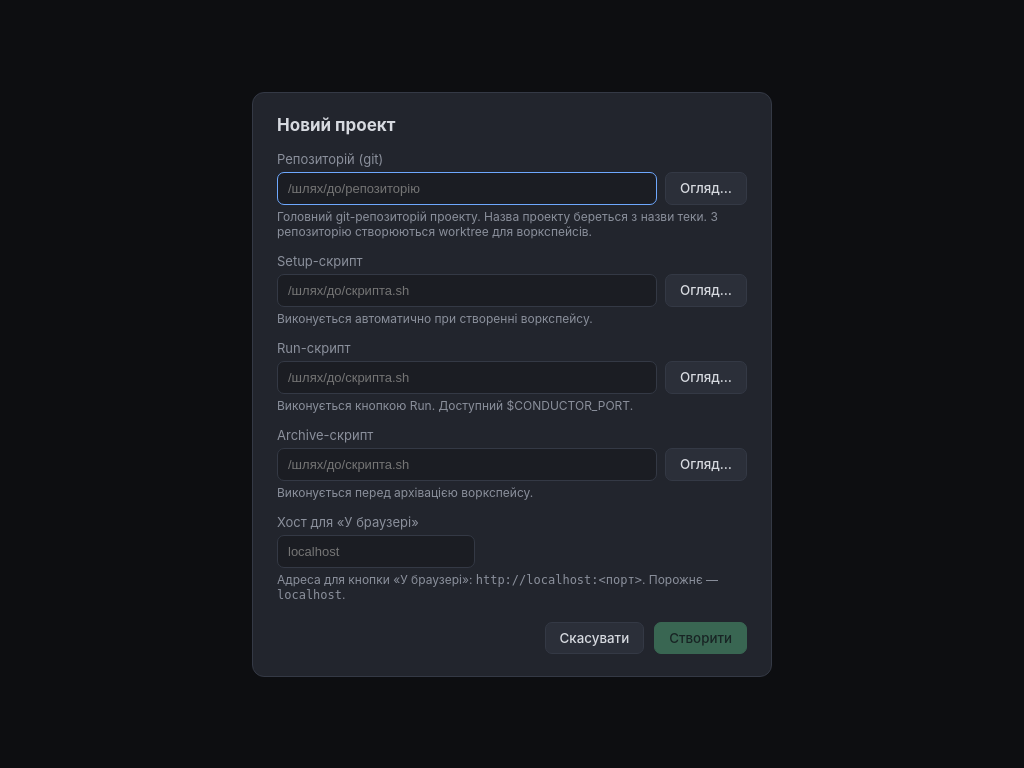
Test case: NewProjectModal › confirms a git repo and enables submit
Type "/home/me/cool-app" into the field with placeholder "/шлях/до/репозиторію" at (467, 188), box x1=277 y1=172 x2=657 y2=204
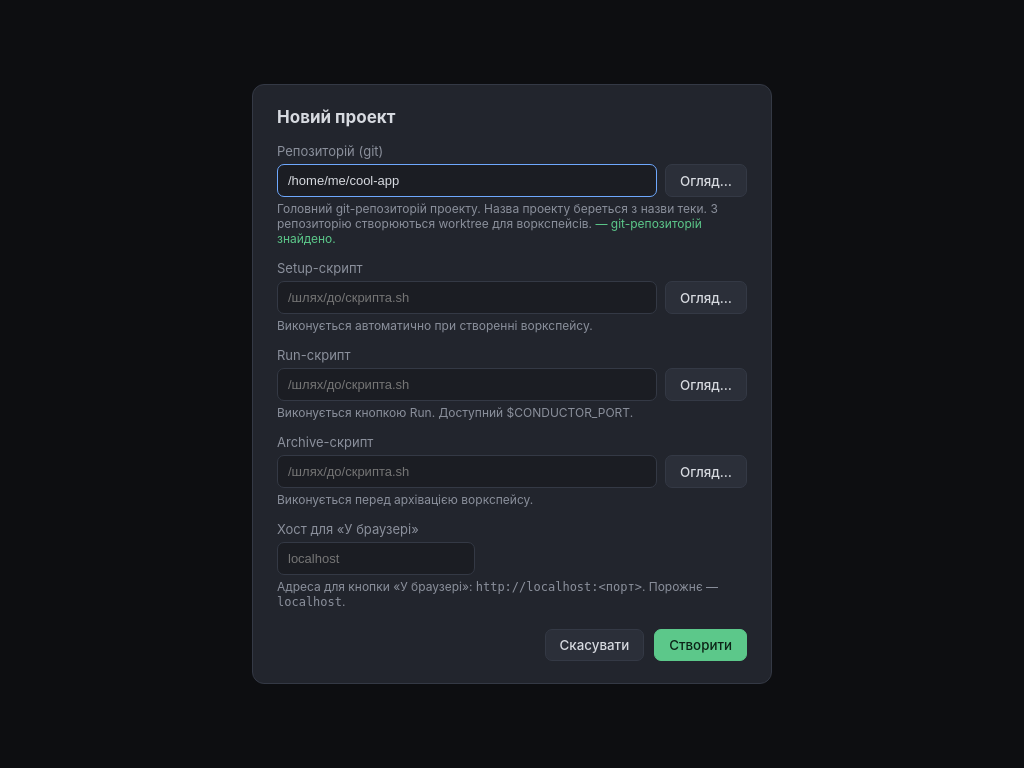
Expected: the text "— git-репозиторій знайдено." is shown, x1=277 y1=216 x2=702 y2=246
Expected: the button "Створити" is enabled, x1=654 y1=629 x2=747 y2=661
